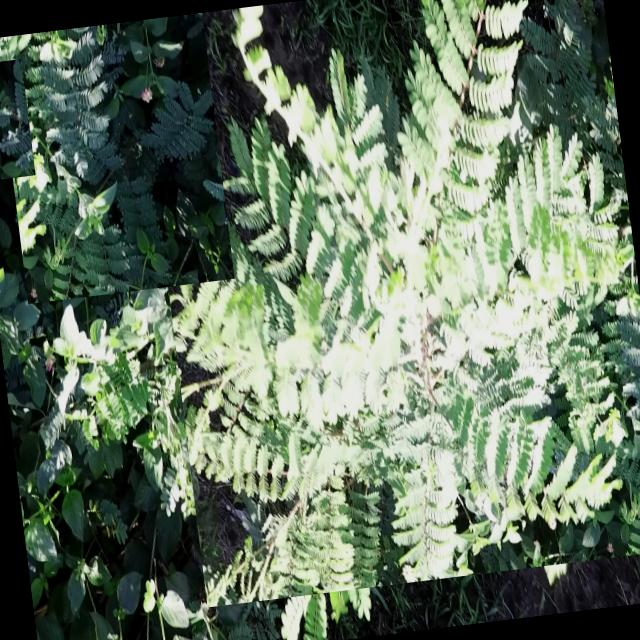Mysore-Thorn-Weed: (135, 0, 640, 607), (0, 12, 234, 303), (0, 58, 35, 181)
